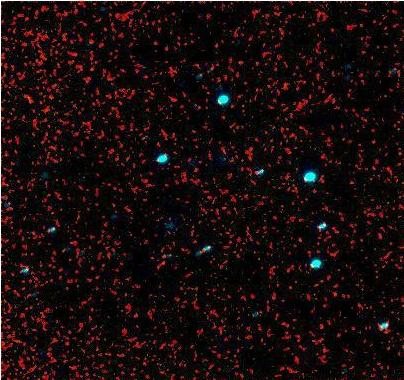star: (147, 250, 177, 280)
